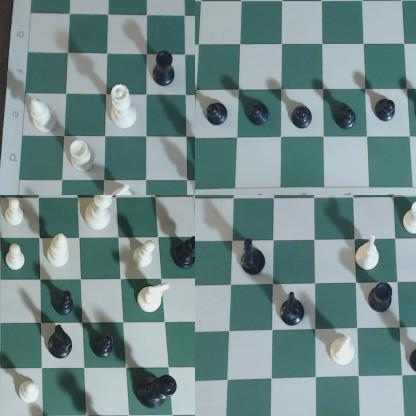black-bishop: (176, 234, 195, 273), (407, 345, 416, 380)
black-king: (137, 370, 177, 411)
black-knight: (237, 239, 270, 278), (46, 323, 75, 363), (278, 292, 307, 332)
black-pawn: (91, 329, 120, 363), (52, 288, 77, 321), (205, 98, 229, 128), (246, 99, 271, 127), (374, 96, 398, 124), (335, 103, 358, 132), (291, 103, 314, 131)
black-rook: (153, 50, 181, 91), (369, 283, 396, 319)
white-bishop: (29, 96, 60, 136), (47, 234, 70, 272)
white-king: (83, 196, 119, 231)
white-knight: (138, 281, 172, 315), (329, 333, 358, 368), (355, 237, 383, 273), (106, 183, 138, 195)
white-pawn: (6, 242, 30, 278), (3, 198, 26, 231), (18, 380, 42, 408), (136, 241, 156, 274)
white-queen: (106, 84, 141, 133)
white-rook: (69, 140, 99, 176), (400, 200, 416, 236)
